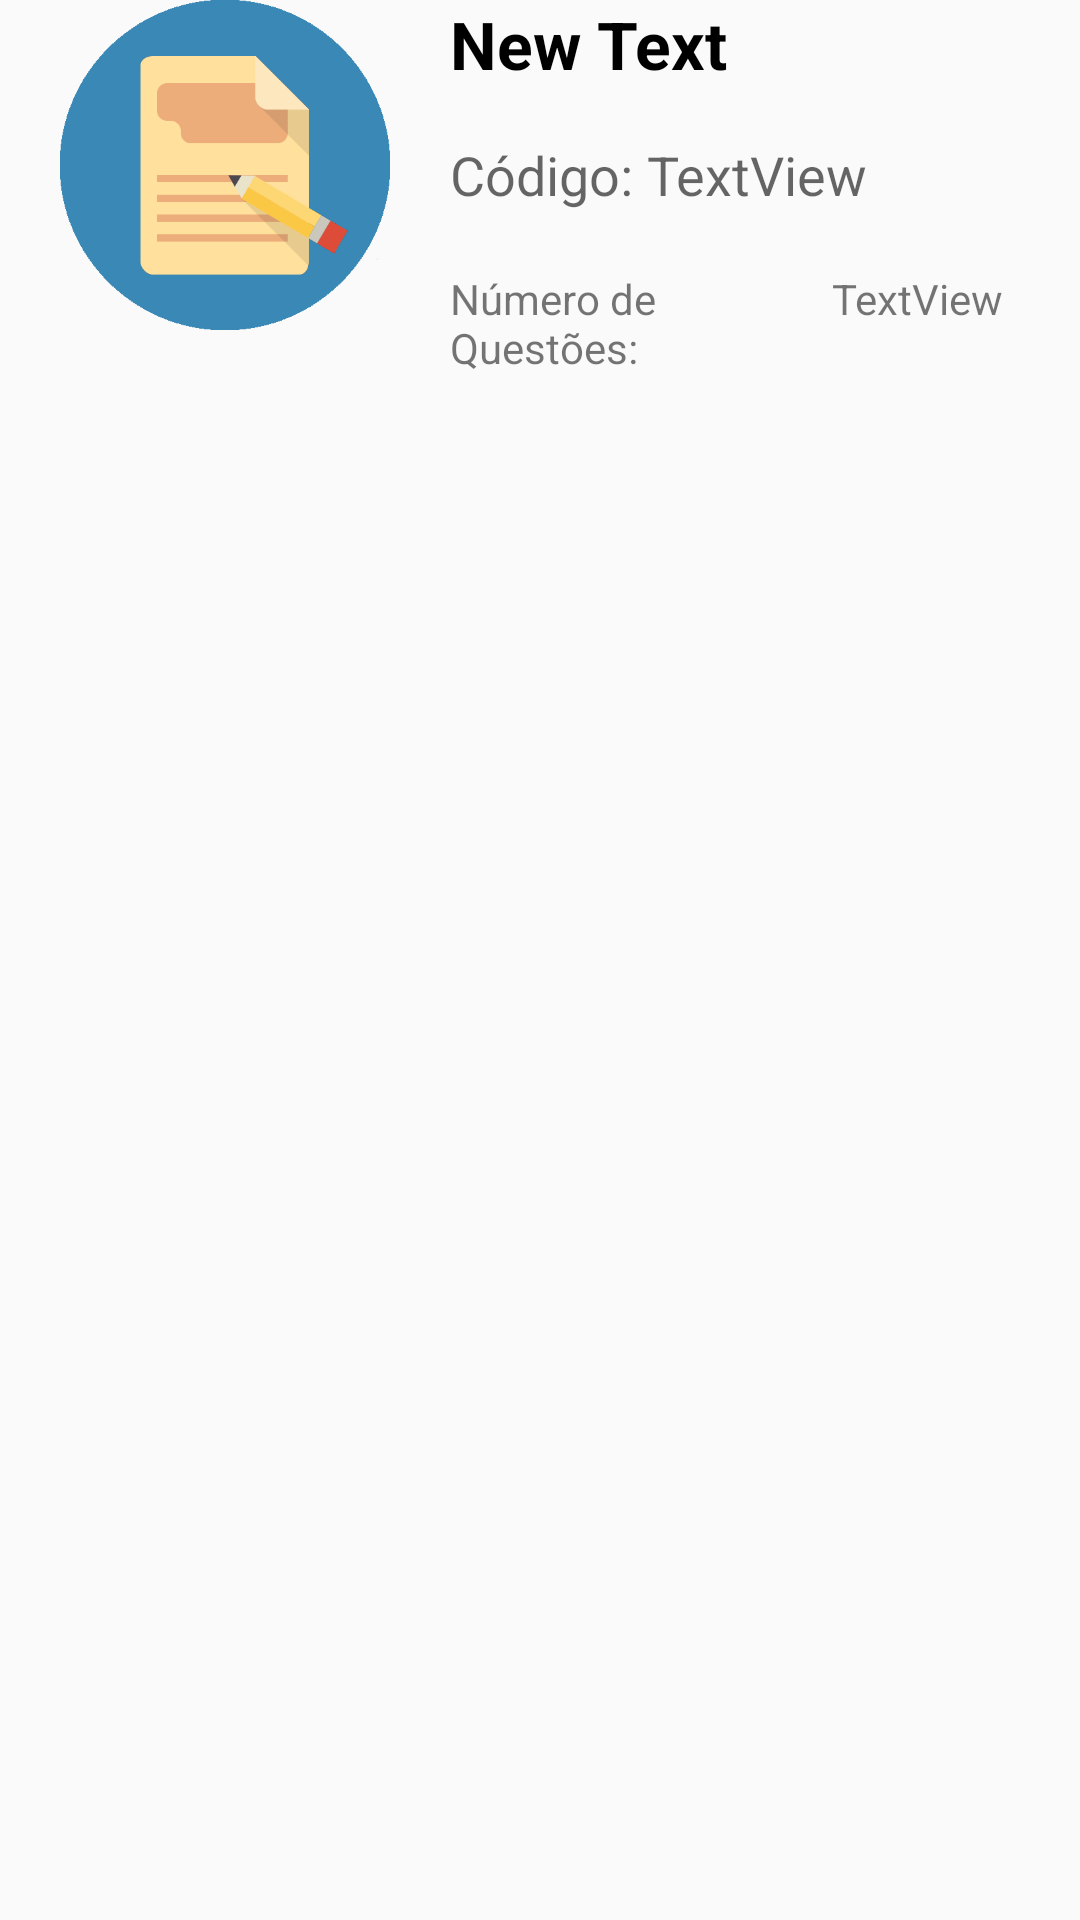

Where to tap for icons on this 1080w x 1920h app screen, as point (x, y):
prova: point (225, 165)
